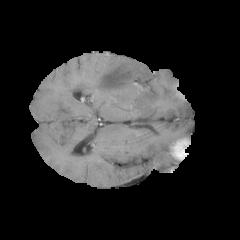glioma: (95, 57, 155, 107)
